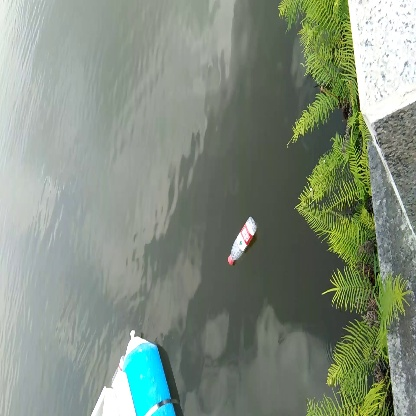bottle: (224, 215, 260, 268)
